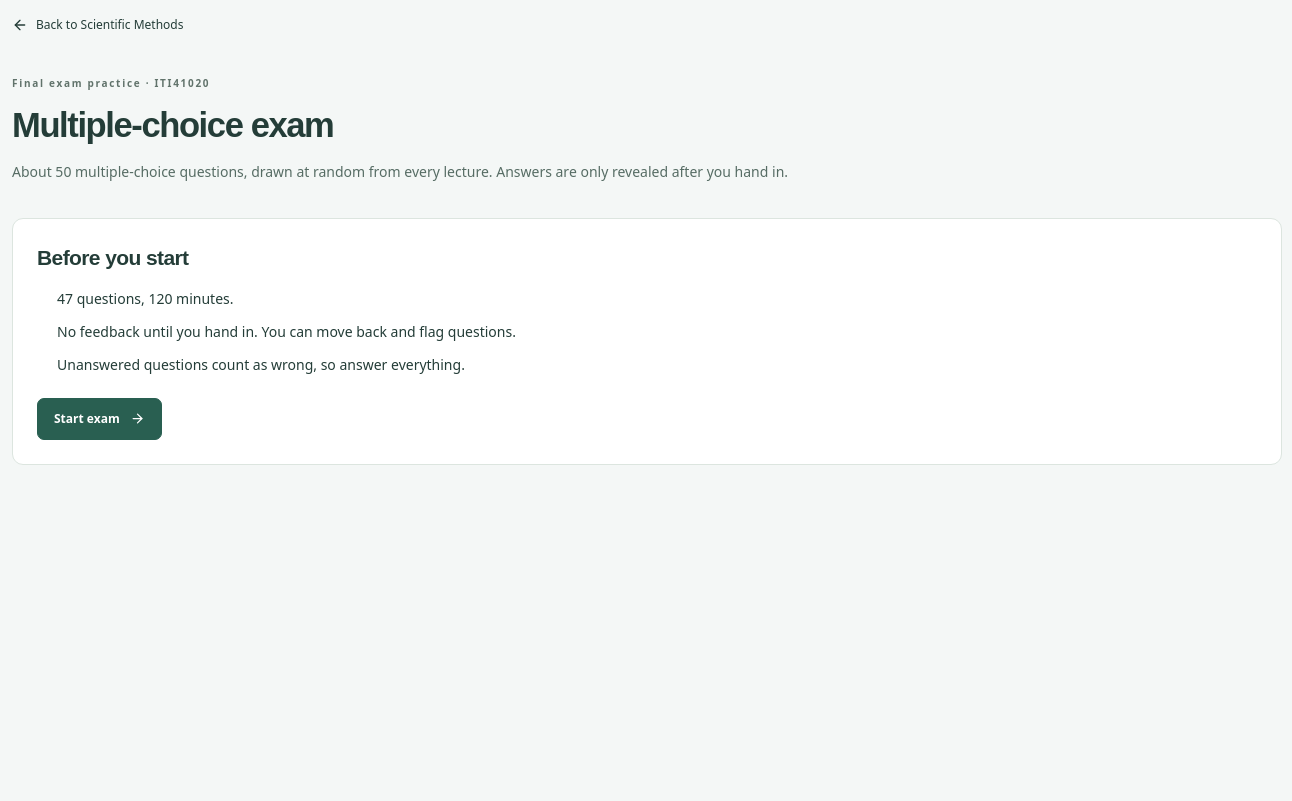
Test: hands in automatically when time runs out
Click the button "Start exam": (99, 419) x1=37 y1=398 x2=162 y2=440
Wait 7202000 ms
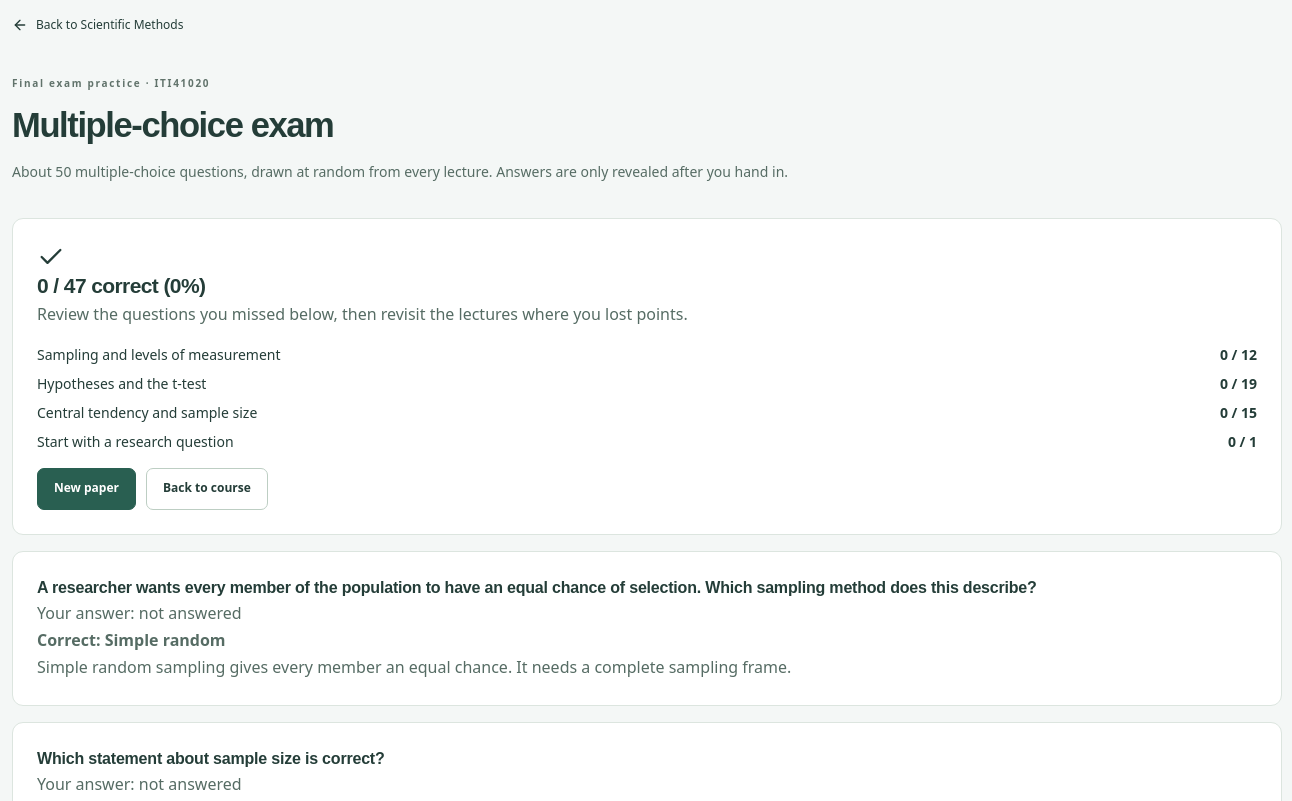
expect the heading "0 / 47 correct (0%)" is shown: met, box x1=37 y1=274 x2=205 y2=297
